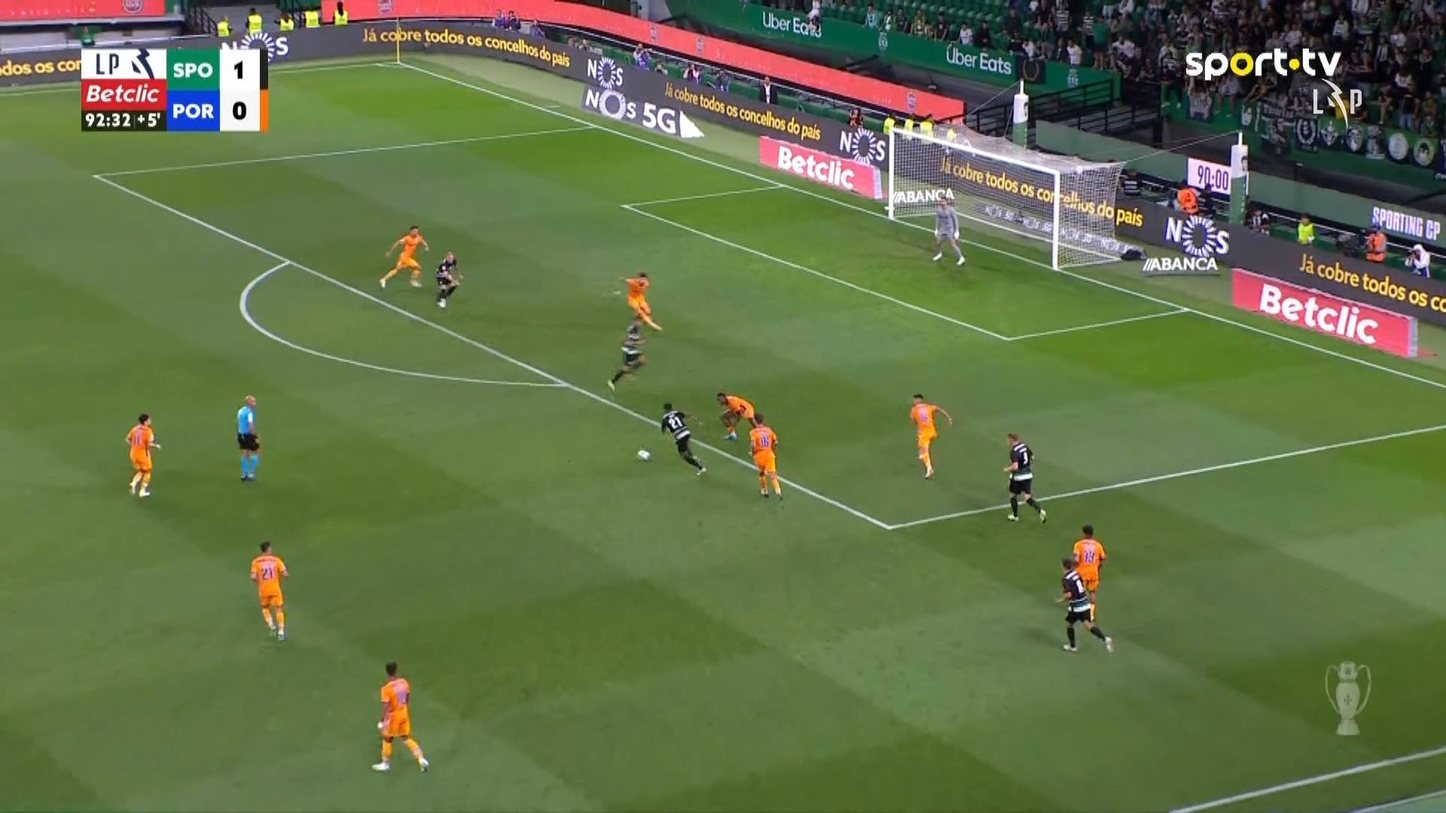ball: (636, 449, 650, 461)
goalkeeper: (931, 190, 966, 266)
player: (371, 661, 429, 773), (1054, 555, 1113, 653), (1002, 431, 1047, 524), (249, 540, 289, 641), (908, 392, 952, 479), (1070, 523, 1107, 623), (660, 401, 707, 477), (377, 224, 429, 289), (747, 413, 783, 499), (125, 413, 161, 497), (606, 319, 646, 393), (619, 271, 662, 331), (715, 391, 756, 440), (433, 251, 462, 308)
referee: (235, 394, 261, 481)
